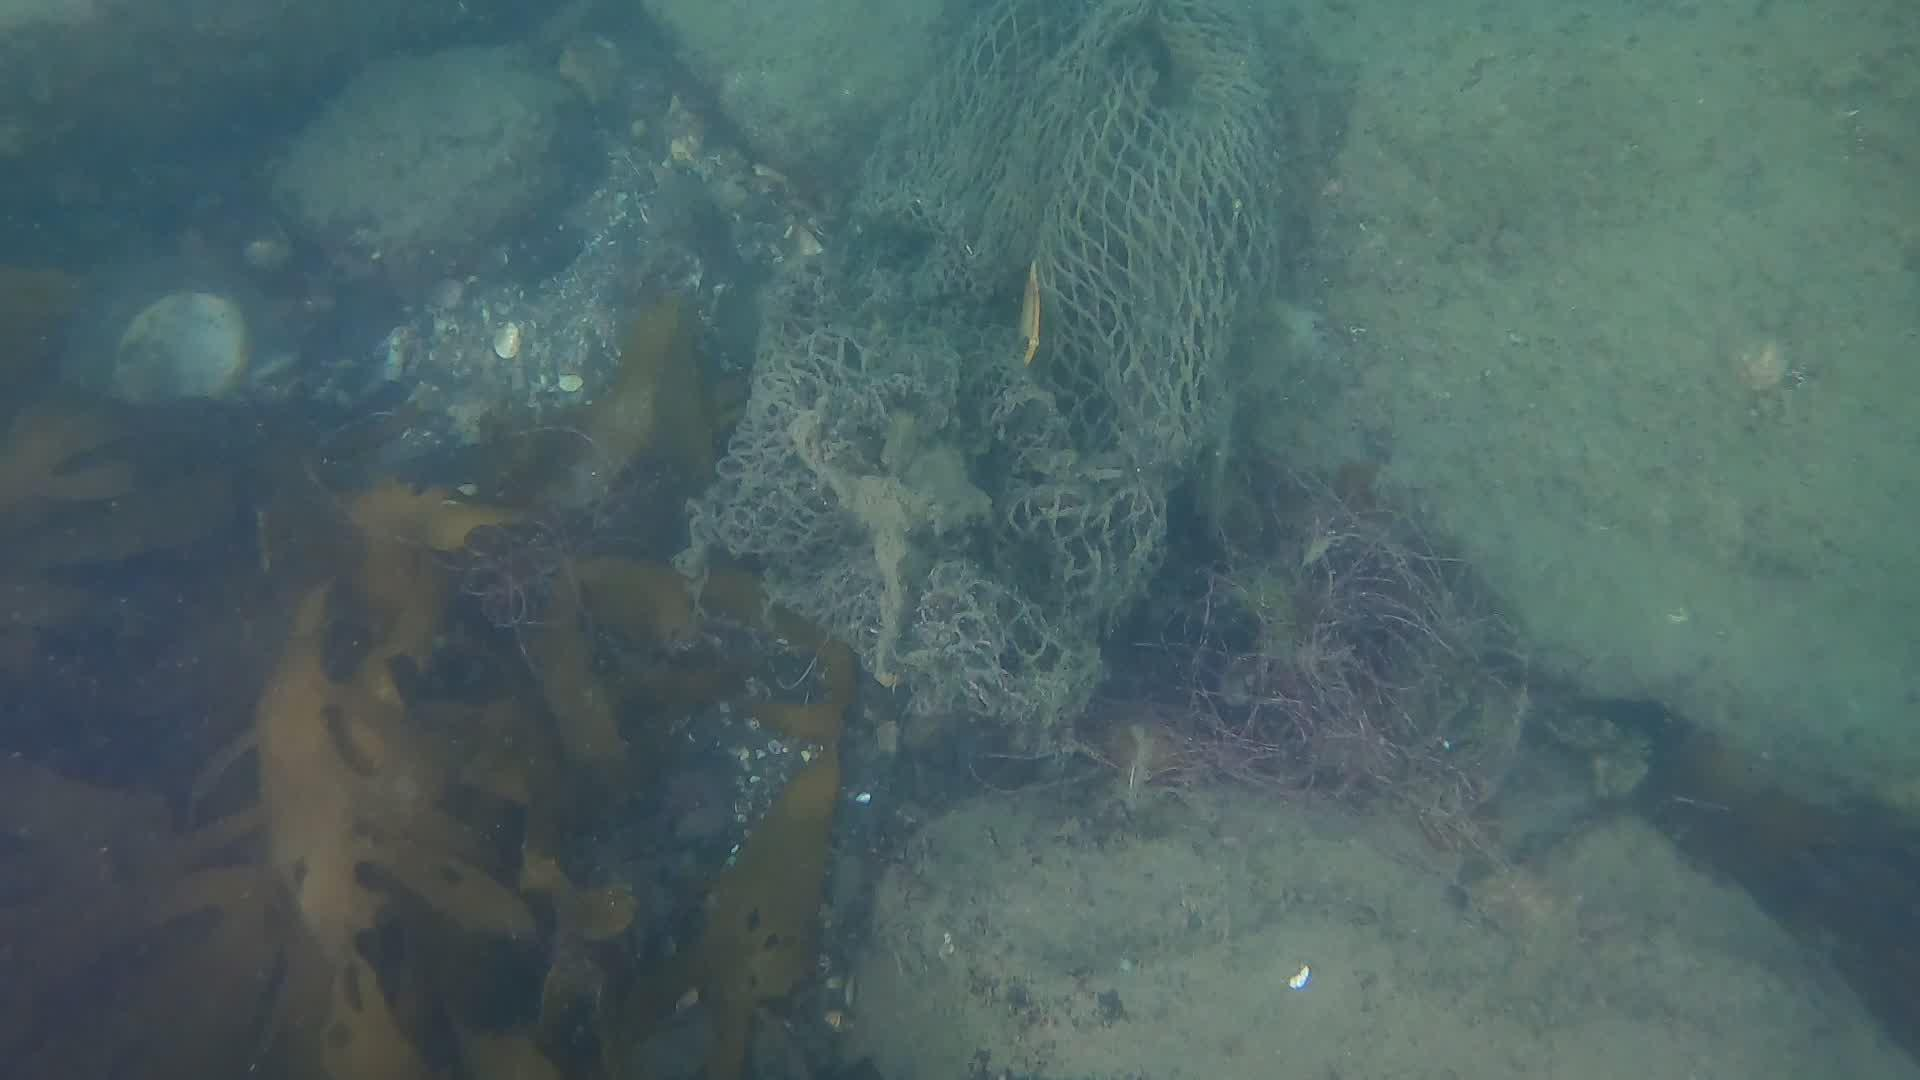fish net: (709, 1, 1278, 727)
